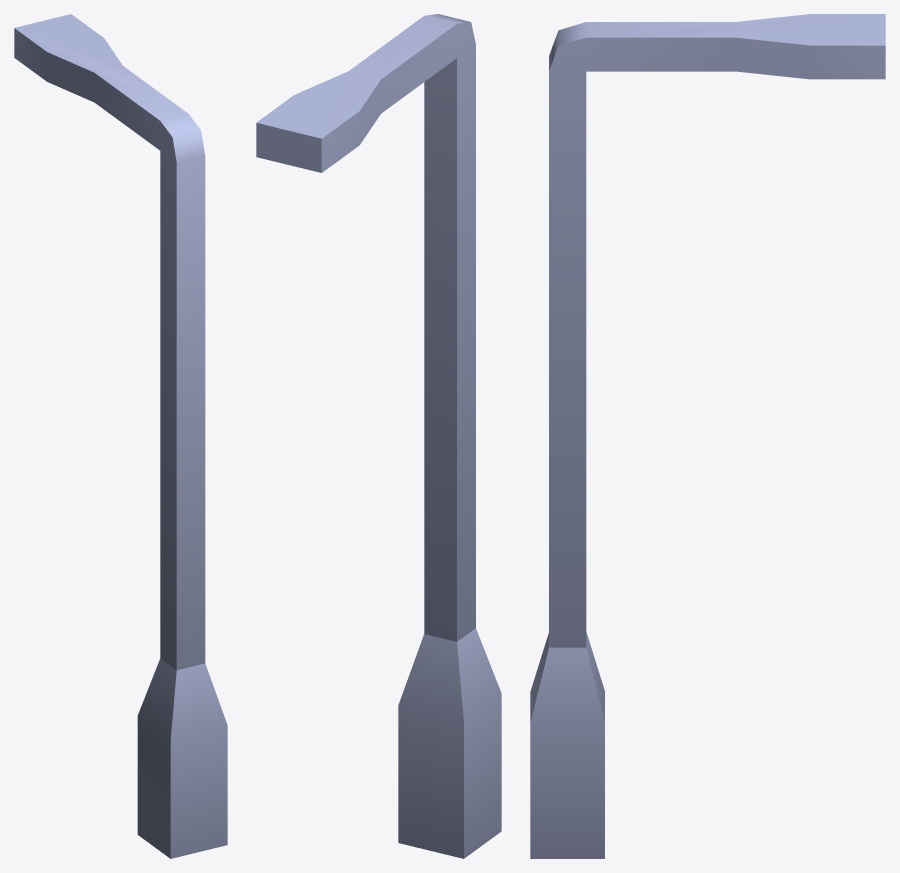
The model's file is streetlight_0.fbx.
3 views of the same model, side by side, from view 1: azimuth 30°, elevation 25°; view 2: azimuth 150°, elevation 25°; view 3: azimuth 270°, elevation 25° (orthographic). The views are drawn at different scales.
Parts seen in each view (by area): view 1: streetlight_0; view 2: streetlight_0; view 3: streetlight_0.
Boxes of the visible parts, box(x1,y1,x2,y2) form: streetlight_0: box(14, 14, 227, 858); streetlight_0: box(256, 14, 501, 858); streetlight_0: box(530, 14, 885, 858).
Bounding box in the file's own units: 0.05 × 0.6 × 0.2375.
Materials: 1 (1 with a texture image).
